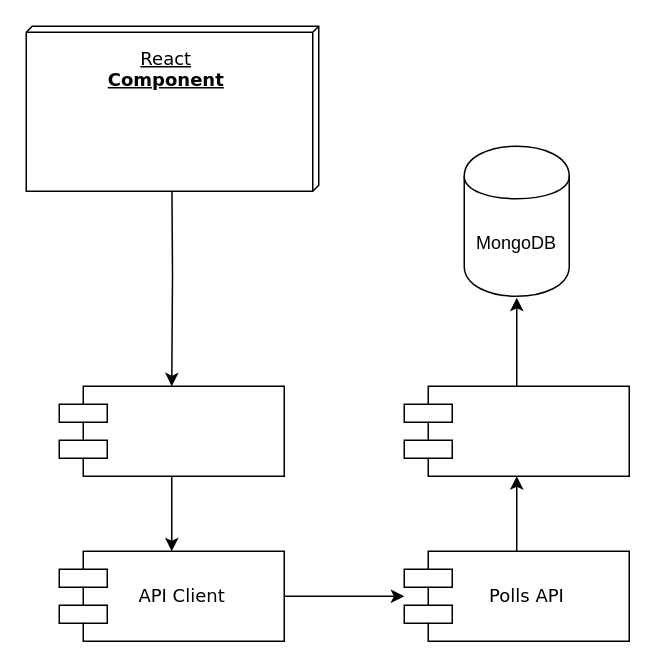
Image size: 656x668. Some labels were removed from this diagram. Here are the shapes that lost their labels. From the top down, the centre of each, then its label:
[171,430]: Logic (stateful)
[516,430]: Logic (stateless)
